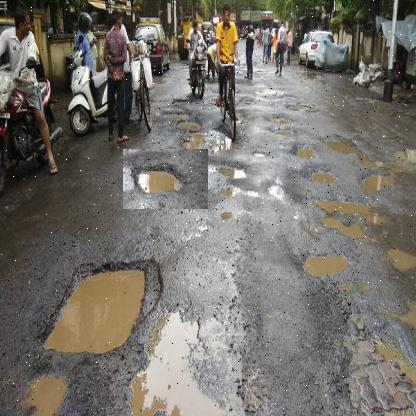pothole_water: (25, 244, 167, 376), (122, 149, 208, 210), (300, 228, 356, 298)
